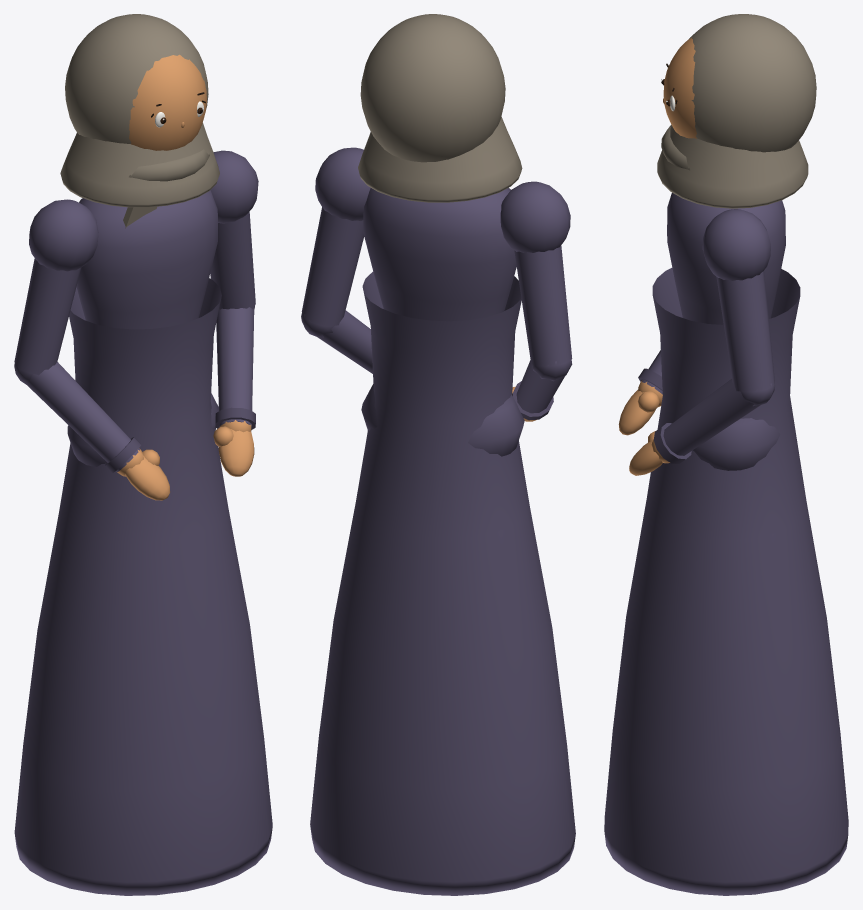
File: 07-siti.glb
The picture shows the model from 3 angles, left to right: view 1: azimuth 30°, elevation 25°; view 2: azimuth 150°, elevation 25°; view 3: azimuth 270°, elevation 25°; orthographic projection.
Parts seen in each view (by area): view 1: Siti, skull, elbow (×2), armR, armL; view 2: Siti, skull, armR, armL, elbow (×2); view 3: Siti, skull, armL, elbow (×2).
Part boxes in pixels (bbox=[...]): Siti: bbox=[14, 190, 272, 895]; skull: bbox=[60, 14, 219, 228]; elbow (×2): bbox=[14, 306, 255, 500]; armR: bbox=[14, 199, 98, 374]; armL: bbox=[210, 150, 258, 309]; Siti: bbox=[310, 187, 575, 895]; skull: bbox=[358, 14, 522, 202]; armR: bbox=[500, 181, 572, 366]; armL: bbox=[301, 147, 370, 326]; elbow (×2): bbox=[301, 310, 572, 421]; Siti: bbox=[604, 193, 848, 895]; skull: bbox=[657, 14, 816, 208]; armL: bbox=[702, 209, 774, 391]; elbow (×2): bbox=[618, 350, 775, 475].
Size of the model in its own units: 0.5367 by 1.7 by 0.4536.
